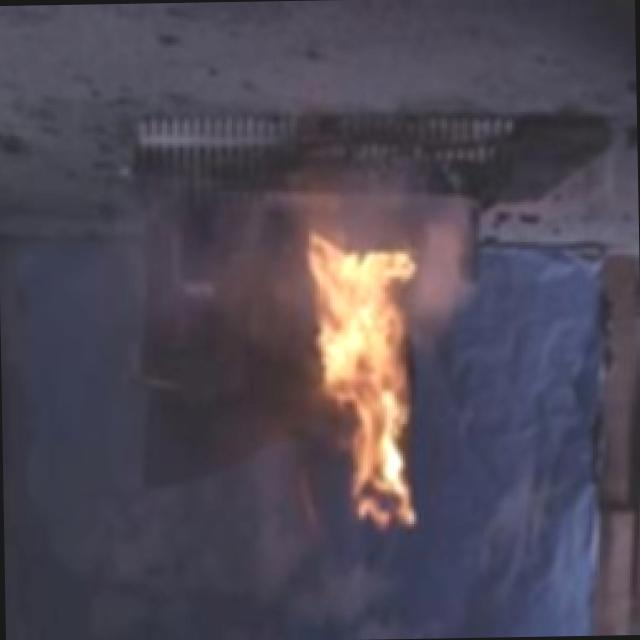fire: (268, 226, 446, 544)
